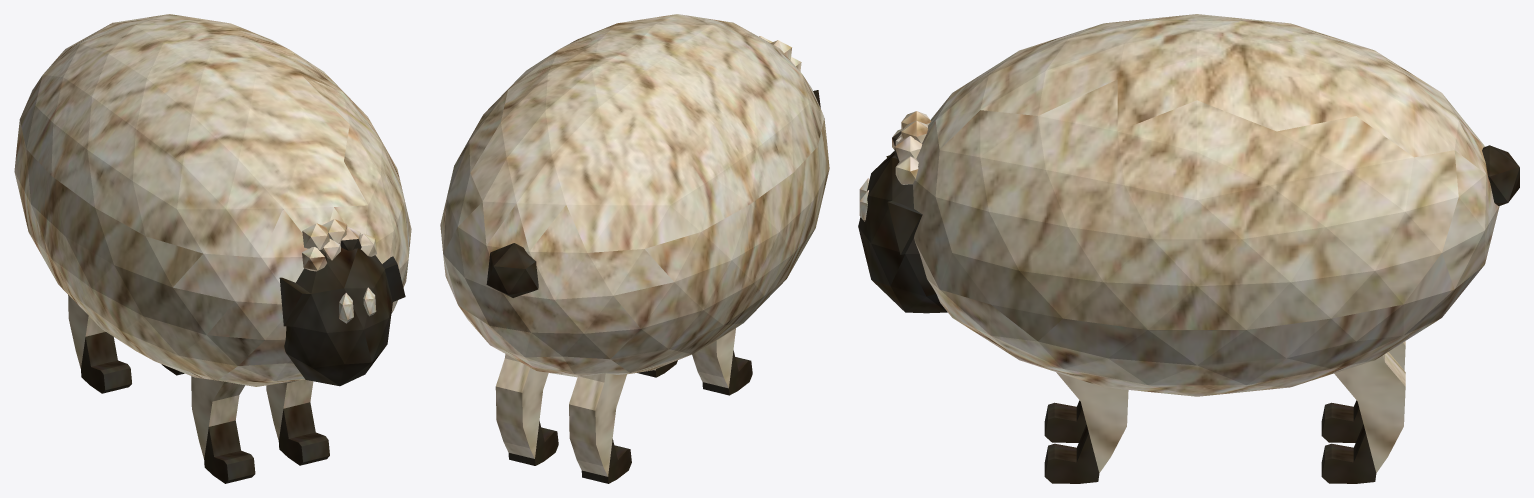
File: animal-sheep.fbx
3 views of the same model, side by side, from view 1: azimuth 30°, elevation 25°; view 2: azimuth 150°, elevation 25°; view 3: azimuth 270°, elevation 25° (orthographic). The views are drawn at different scales.
Visible parts, largest first — view 1: Icosphere.000; view 2: Icosphere.000; view 3: Icosphere.000.
Part boxes in pixels (x1,y1,x2,y2): Icosphere.000: (14,14,411,483); Icosphere.000: (440,14,829,483); Icosphere.000: (858,14,1519,483).
Size of the model in its own units: 30.72 by 37.63 by 53.09.
